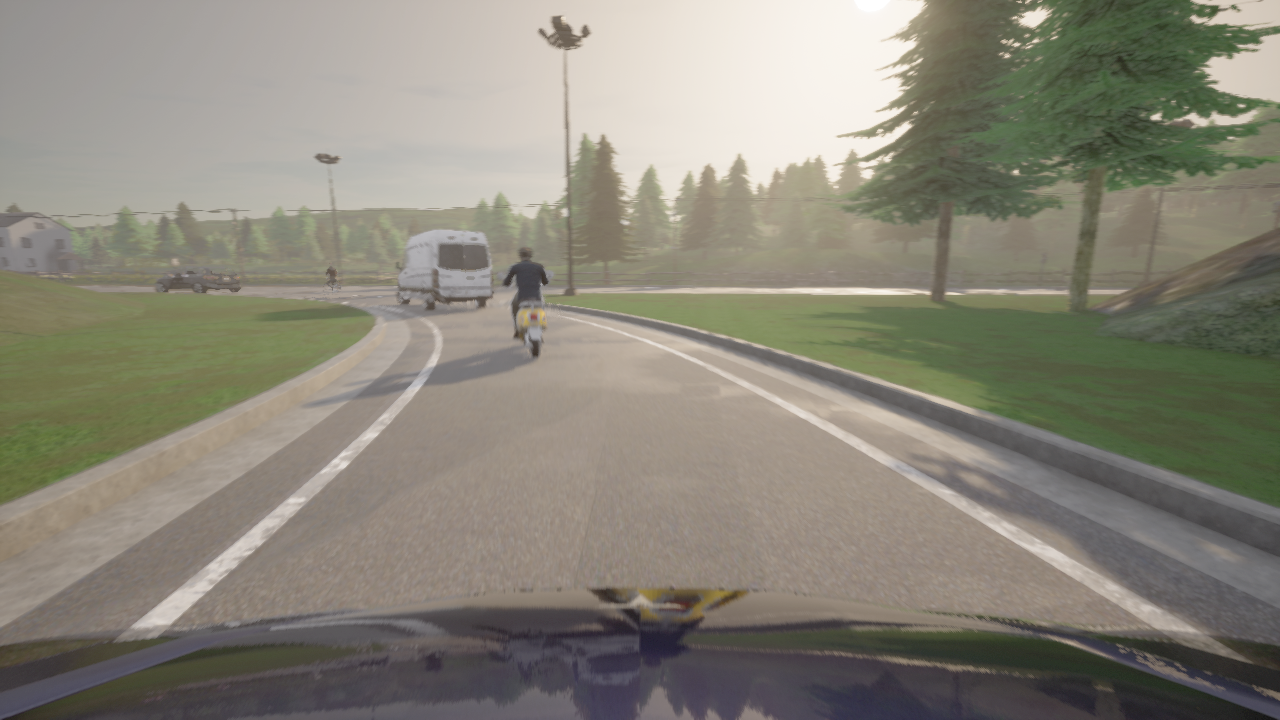cyclist: (0, 588, 1279, 719), (395, 229, 494, 310), (497, 271, 552, 358), (155, 266, 241, 293), (323, 277, 340, 296)
